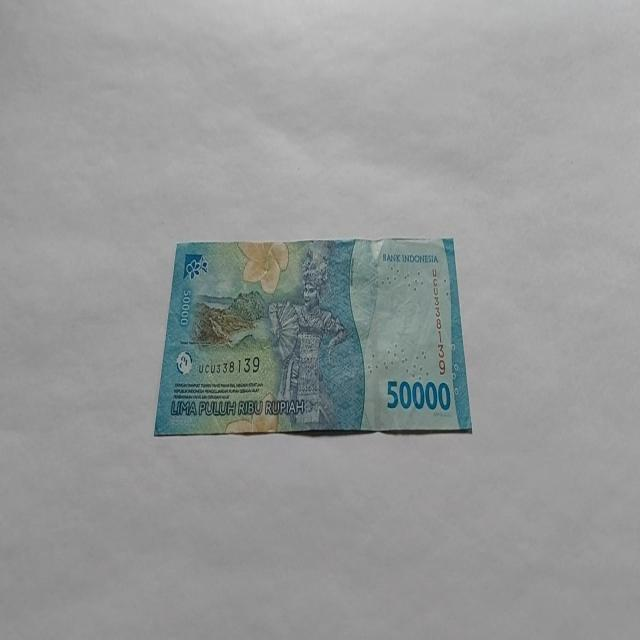lima puluh ribu rupiah: (152, 235, 472, 438)
